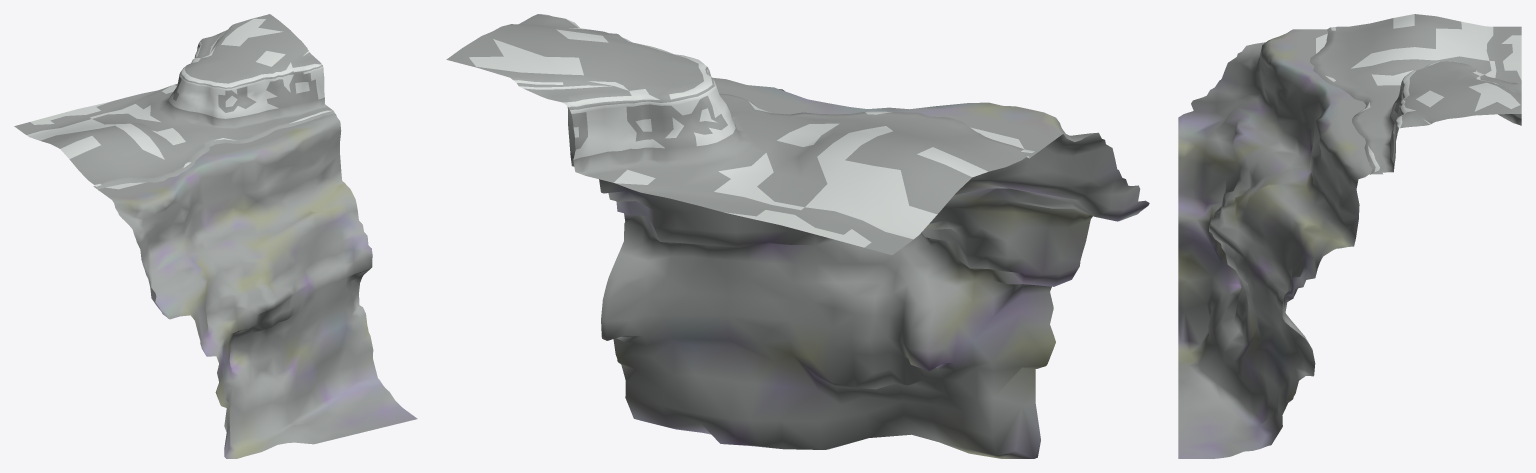
The picture shows the model from 3 angles, left to right: view 1: azimuth 30°, elevation 25°; view 2: azimuth 150°, elevation 25°; view 3: azimuth 270°, elevation 25°; orthographic projection. The views are drawn at different scales.
Visible parts, largest first — view 1: G:\FFXIV-MapTools\exports\y6f2\bg\ex5\02_ykt_y6\fld\y6f2\bgp (×14); view 2: G:\FFXIV-MapTools\exports\y6f2\bg\ex5\02_ykt_y6\fld\y6f2\bgp (×15); view 3: G:\FFXIV-MapTools\exports\y6f2\bg\ex5\02_ykt_y6\fld\y6f2\bgp (×11).
Part boxes in pixels (box(x1,y1,x2,y2)): G:\FFXIV-MapTools\exports\y6f2\bg\ex5\02_ykt_y6\fld\y6f2\bgp (×14): box(14, 14, 417, 458); G:\FFXIV-MapTools\exports\y6f2\bg\ex5\02_ykt_y6\fld\y6f2\bgp (×15): box(446, 14, 1149, 458); G:\FFXIV-MapTools\exports\y6f2\bg\ex5\02_ykt_y6\fld\y6f2\bgp (×11): box(1178, 14, 1521, 458).
Bounding box in the file's own units: 128 × 142 × 128.
